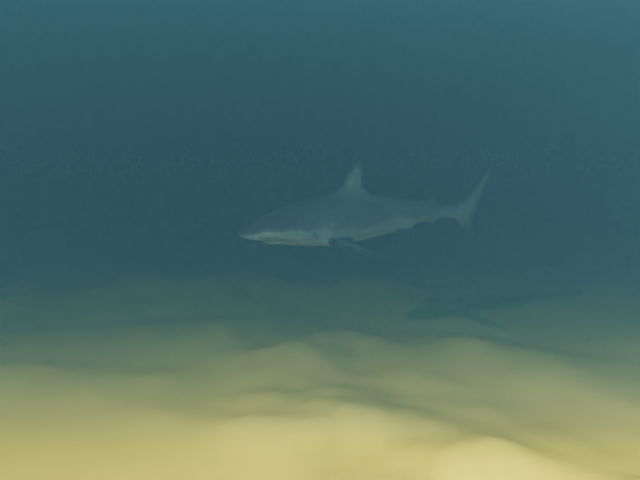Carribean Shark.001: (238, 160, 493, 260)
